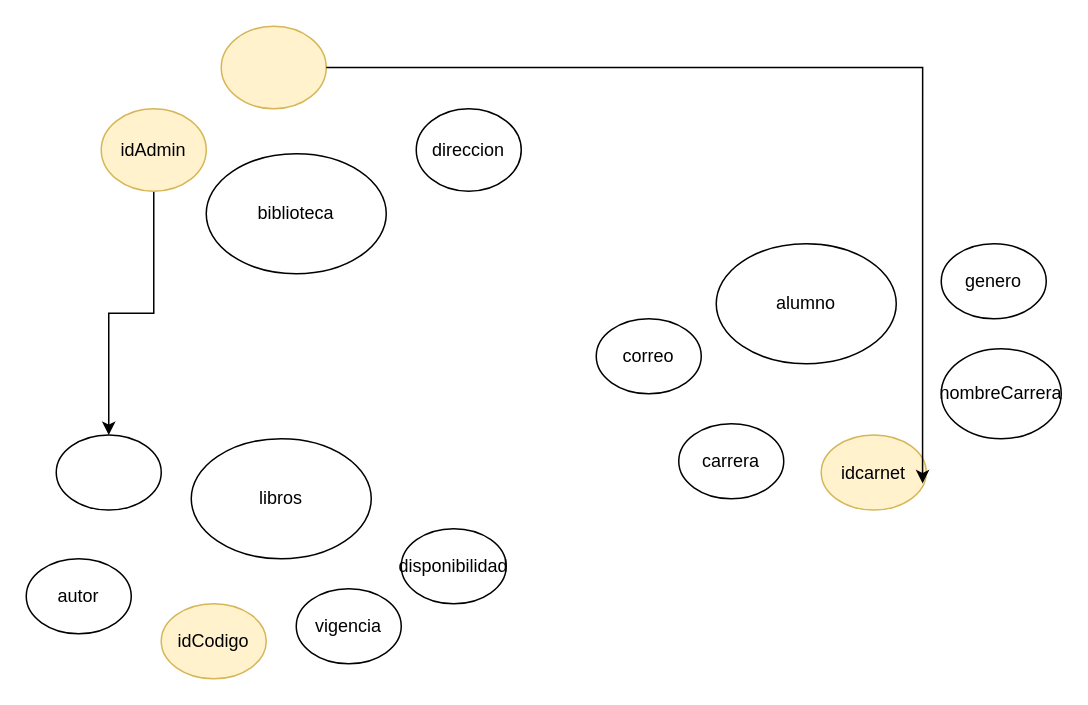
Image size: 1088x705. Some labels were removed from this diagram. Each missing label, with the centre of its shape:
"idtitulo" goes at point 108,472.
"idUser" goes at point 273,67.
